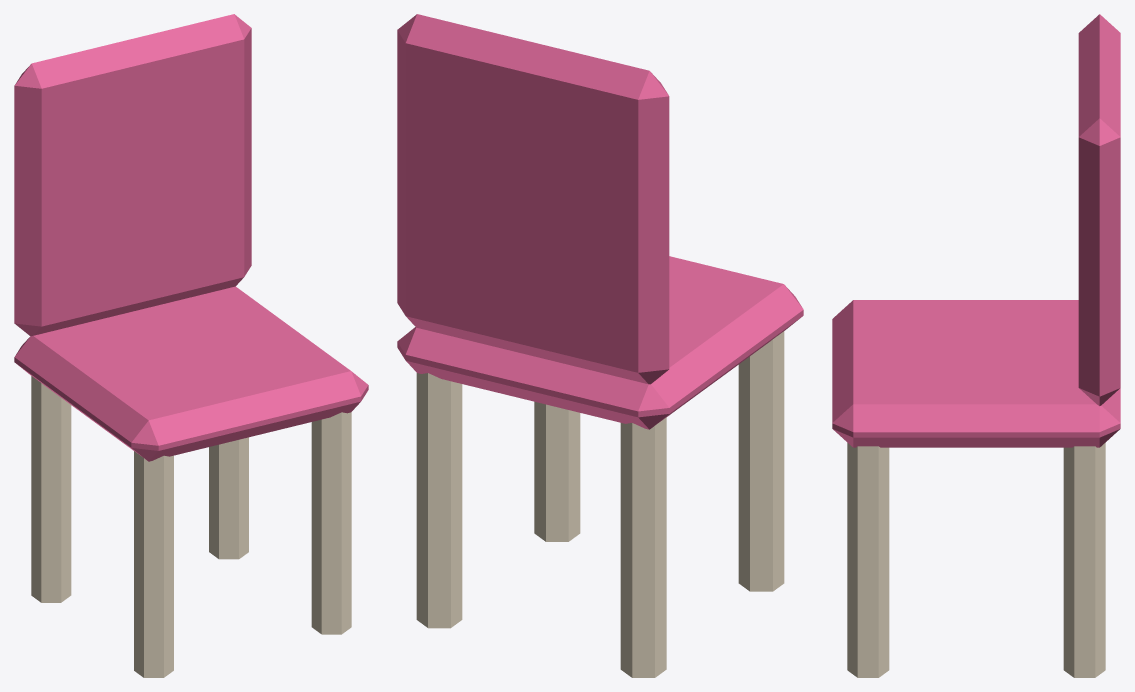
3 renders of one model, left to right at view 1: azimuth 30°, elevation 25°; view 2: azimuth 150°, elevation 25°; view 3: azimuth 270°, elevation 25°, orthographic. The views are drawn at different scales.
Visible parts, largest first — view 1: Backrest, Seat, Leg.002, Leg, Leg.001, Leg.003; view 2: Backrest, Seat, Leg.001, Leg.003, Leg, Leg.002; view 3: Seat, Backrest, Leg.002, Leg.003.
Part boxes in pixels (left/top/right/bottom): Backrest: left=14, top=14, right=251, bottom=336; Seat: left=14, top=286, right=368, bottom=461; Leg.002: left=311, top=412, right=351, bottom=634; Leg: left=134, top=451, right=173, bottom=677; Leg.001: left=31, top=376, right=71, bottom=602; Leg.003: left=209, top=437, right=248, bottom=559; Backrest: left=397, top=14, right=669, bottom=384; Seat: left=397, top=256, right=803, bottom=429; Leg.001: left=620, top=417, right=666, bottom=677; Leg.003: left=416, top=373, right=462, bottom=628; Leg: left=738, top=331, right=784, bottom=591; Leg.002: left=534, top=401, right=580, bottom=541; Seat: left=832, top=300, right=1120, bottom=447; Backrest: left=1078, top=14, right=1120, bottom=405; Leg.002: left=847, top=443, right=889, bottom=677; Leg.003: left=1063, top=443, right=1105, bottom=677.
Bounding box in the file's own units: 0.48 × 1.02 × 0.48.
1 material, 1 textured.
